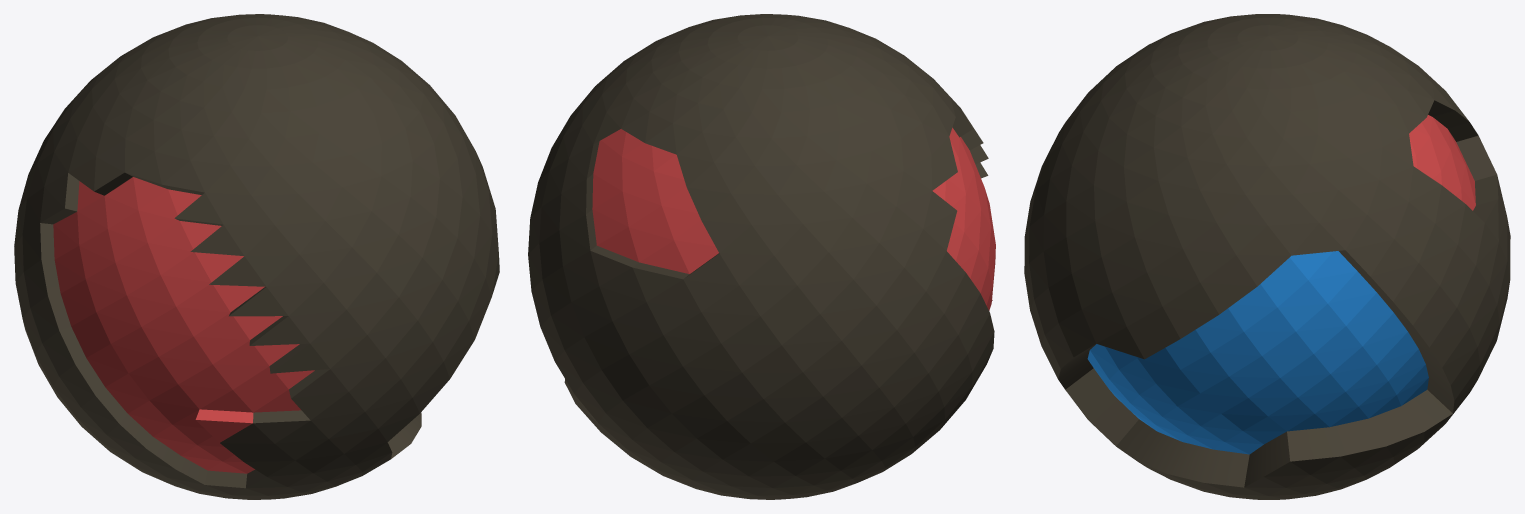
File: Planet_Brown_Model.fbx
3 renders of one model, left to right at view 1: azimuth 30°, elevation 25°; view 2: azimuth 150°, elevation 25°; view 3: azimuth 270°, elevation 25°, orthographic.
Visible parts, largest first — view 1: pSphere5; view 2: pSphere5; view 3: pSphere5.
Boxes of the visible parts, x1,y1,x2,y2 form: pSphere5: (14,14,499,499); pSphere5: (528,14,995,499); pSphere5: (1024,14,1510,499).
Bounding box in the file's own units: 0.2134 × 0.2177 × 0.2169.
Materials: 1 (1 with a texture image).
